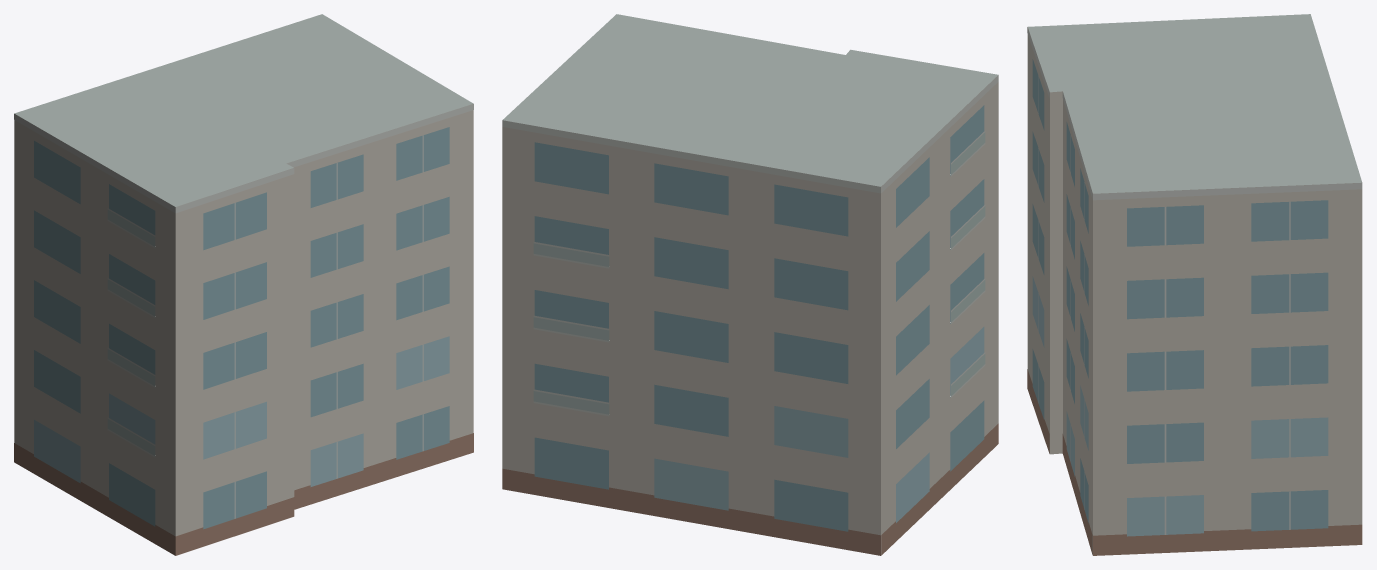
Rendered from survey-upis-32549644.glb.
3 renders of one model, left to right at view 1: azimuth 30°, elevation 25°; view 2: azimuth 150°, elevation 25°; view 3: azimuth 270°, elevation 25°, orthographic. The views are drawn at different scales.
Parts seen in each view (by area): view 1: survey-upis-32549644.tmp; view 2: survey-upis-32549644.tmp; view 3: survey-upis-32549644.tmp.
Boxes of the visible parts, <box> form: survey-upis-32549644.tmp: <box>14,14,473,555</box>; survey-upis-32549644.tmp: <box>502,14,998,555</box>; survey-upis-32549644.tmp: <box>1027,14,1362,555</box>.
Bounding box in the file's own units: 14.42 × 13.54 × 11.36.
